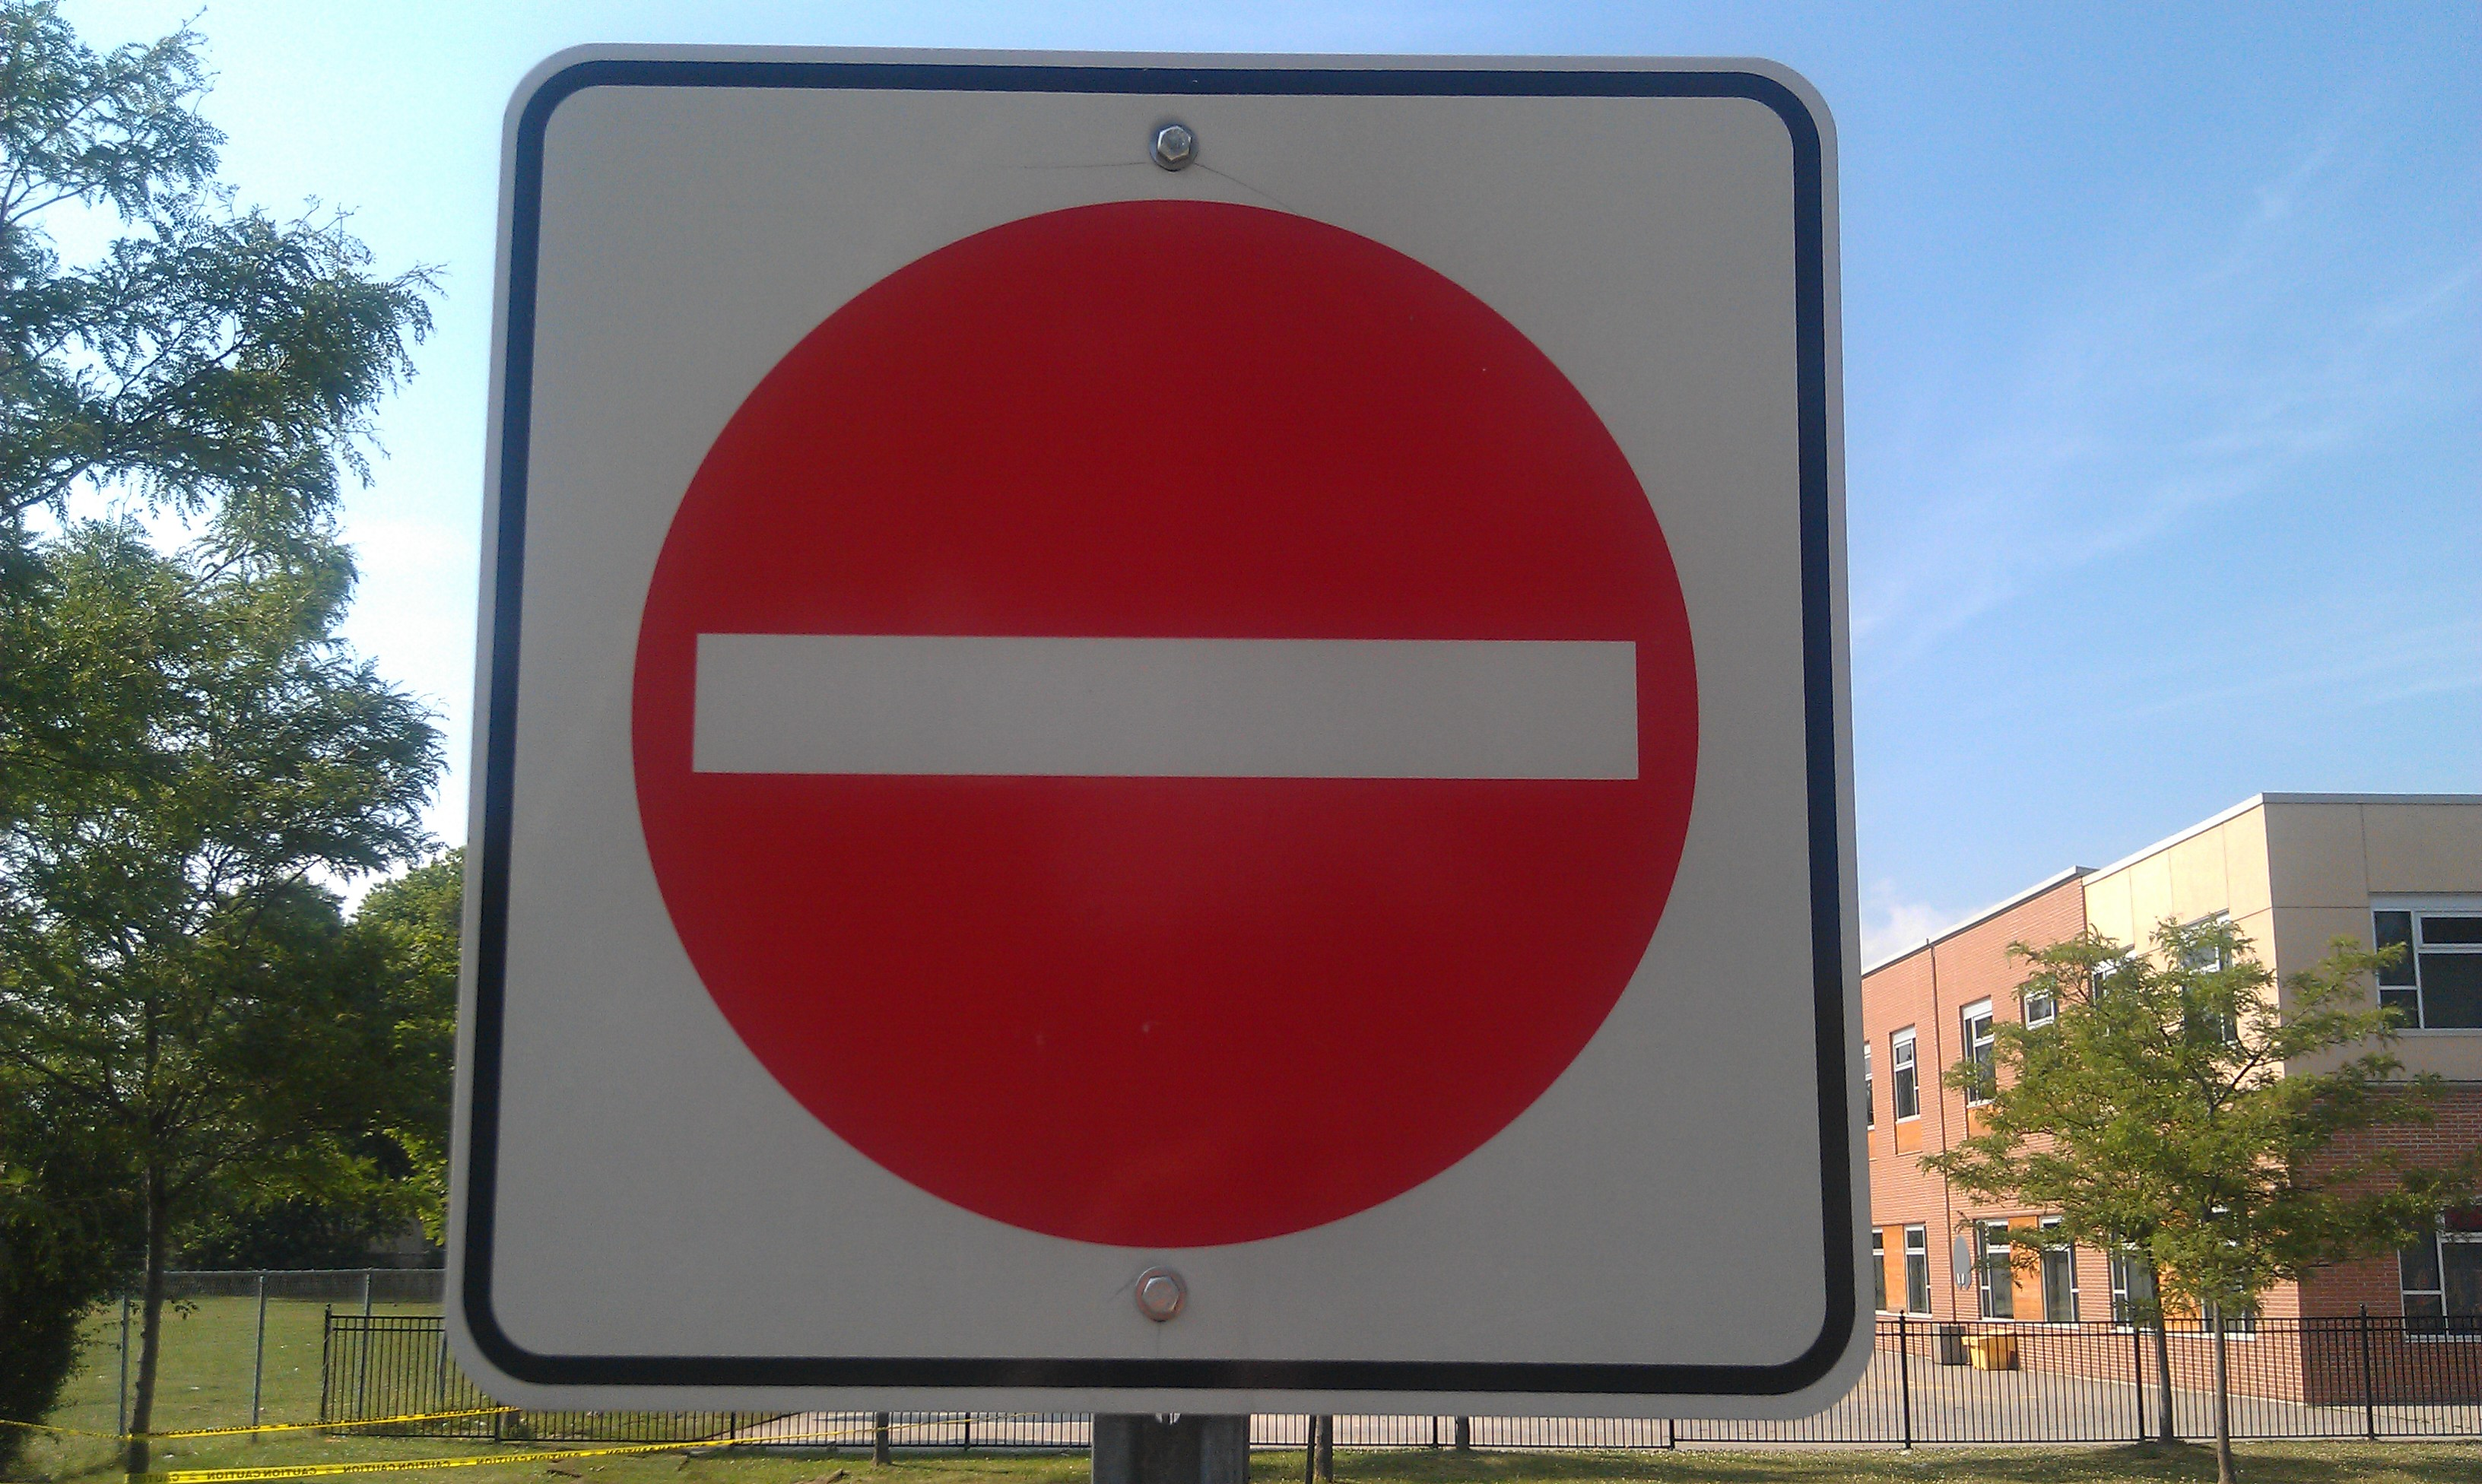sign_noentry: (443, 42, 1878, 1415)
